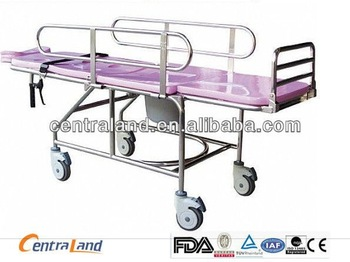trolley_bed: (3, 16, 329, 232)
